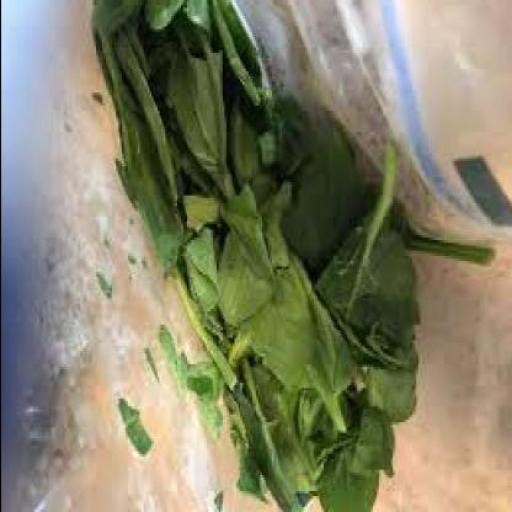biodegradable: (91, 3, 174, 283), (304, 222, 410, 438), (224, 256, 352, 431), (273, 116, 376, 274), (219, 358, 315, 511), (267, 132, 356, 285), (308, 380, 394, 511), (162, 46, 233, 203), (166, 240, 233, 396), (210, 195, 269, 343), (154, 322, 221, 440), (366, 222, 492, 267), (214, 2, 260, 111), (180, 208, 222, 314), (227, 3, 263, 119), (255, 98, 306, 176), (178, 176, 226, 240), (87, 3, 144, 45), (172, 2, 212, 58), (113, 404, 142, 462), (138, 2, 186, 34), (140, 350, 160, 388), (93, 277, 110, 304), (206, 494, 222, 510), (87, 98, 99, 110), (124, 259, 134, 267), (125, 222, 132, 232), (98, 246, 104, 256), (140, 259, 144, 271)
